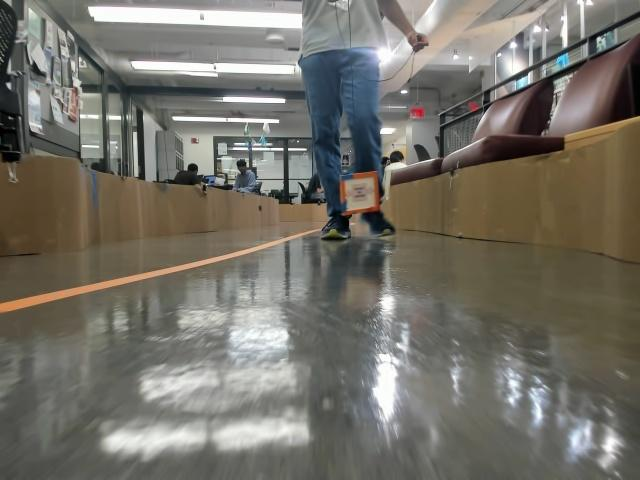Do Not Go Around: (345, 185, 372, 201)
